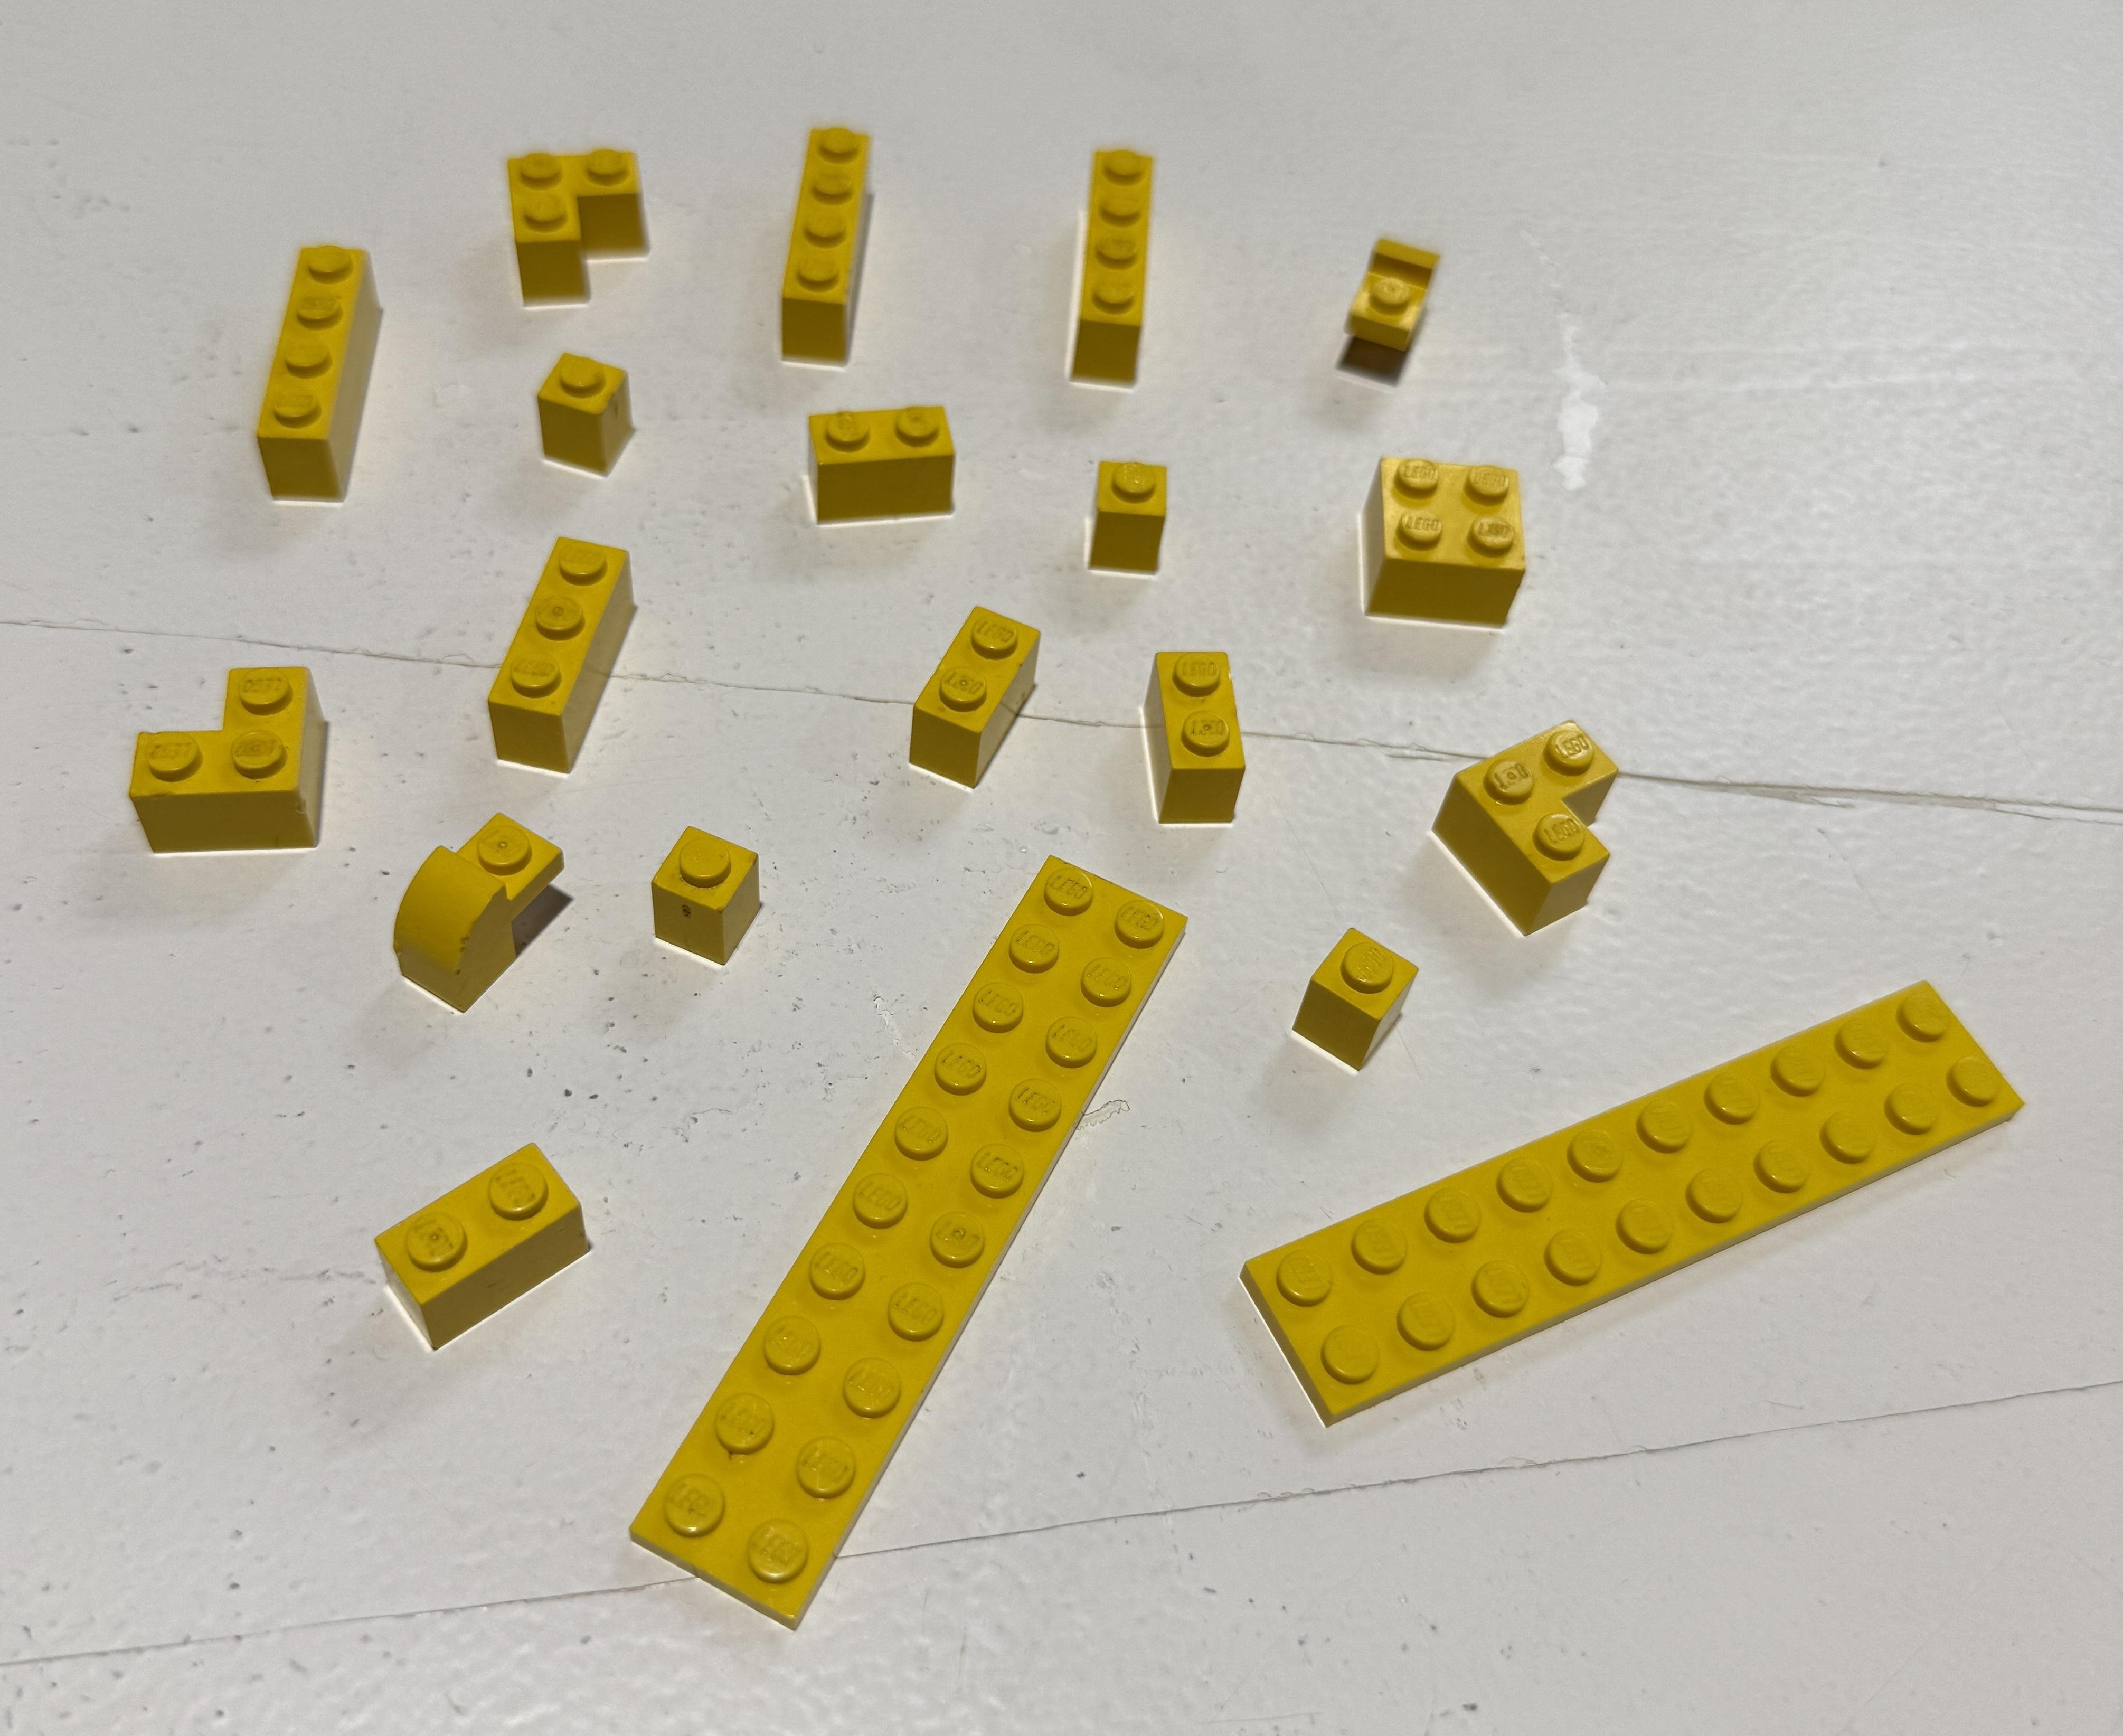brick_1x1: (494, 337, 693, 497), (628, 788, 795, 966), (1069, 444, 1233, 592), (1296, 904, 1430, 1079)
brick_1x2: (354, 1116, 637, 1391), (864, 576, 1084, 793), (1106, 620, 1263, 842), (779, 384, 984, 532)
brick_1x3: (455, 502, 667, 797)
brick_1x4: (229, 211, 404, 518), (758, 100, 899, 384), (1051, 106, 1167, 414)
brick_2x2: (1354, 434, 1562, 671)
